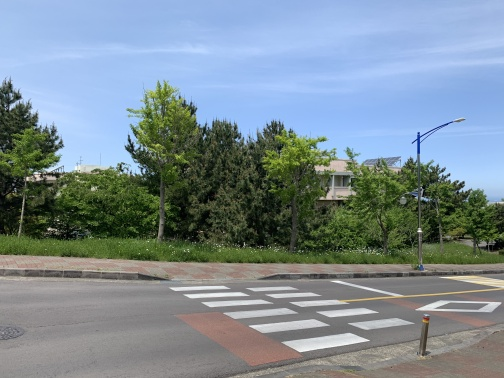College Of Education: (301, 149, 417, 219)
